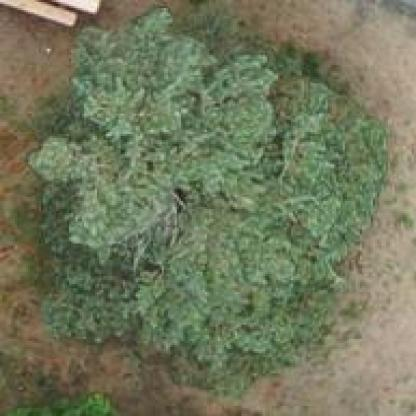Coniferous Tree: (23, 25, 389, 370)
